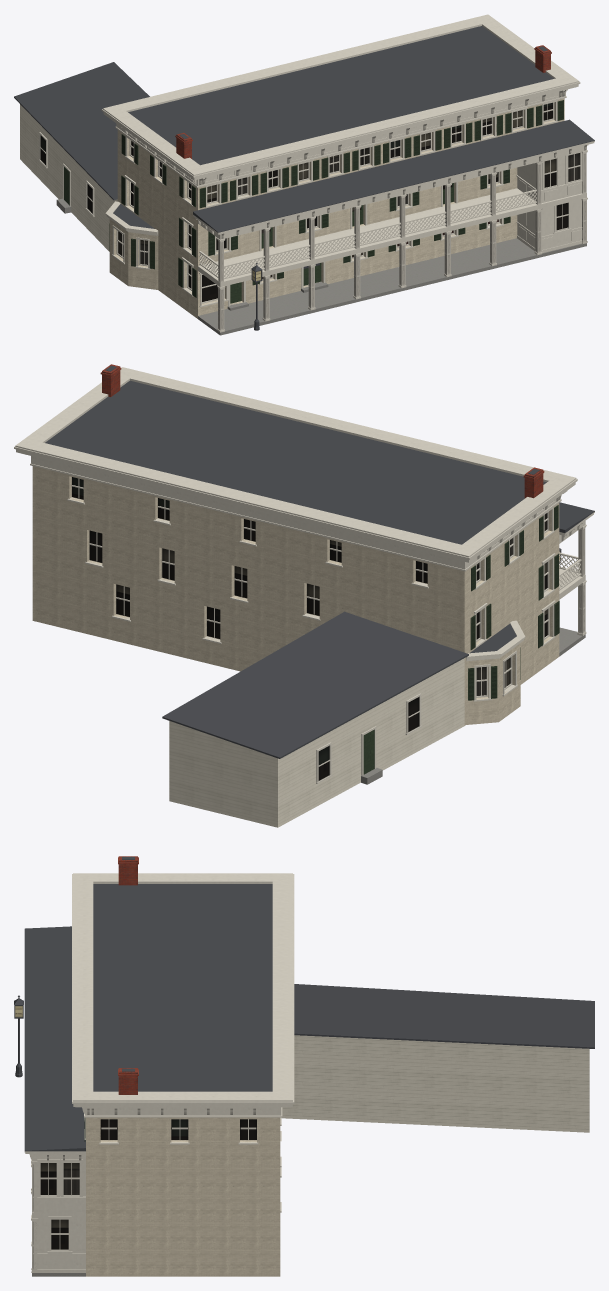
Rendered from county-hotel.glb.
3 renders of one model, top to bottom at view 1: azimuth 30°, elevation 25°; view 2: azimuth 150°, elevation 25°; view 3: azimuth 270°, elevation 25°, orthographic. The views are drawn at different scales.
Parts seen in each view (by area): view 1: CountyHotel; view 2: CountyHotel; view 3: CountyHotel.
Part boxes in pixels (x1=…): CountyHotel: x1=14, y1=14, x2=594, y2=335; CountyHotel: x1=14, y1=364, x2=594, y2=827; CountyHotel: x1=14, y1=856, x2=594, y2=1276.
Bounding box in the file's own units: 25.93 × 10.51 × 27.08.
11 materials, 9 textured.
